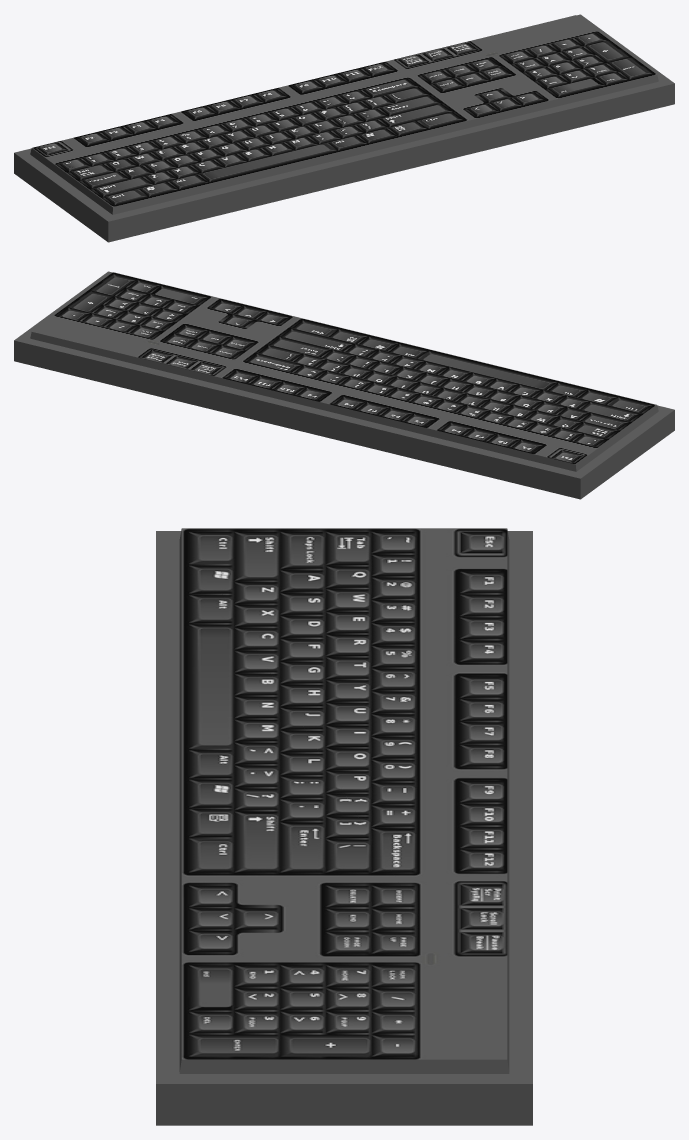
The model's file is Keyboard.FBX.
3 views of the same model, one above another, from view 1: azimuth 30°, elevation 25°; view 2: azimuth 150°, elevation 25°; view 3: azimuth 270°, elevation 25° (orthographic). The views are drawn at different scales.
Visible parts, largest first — view 1: Keyboard; view 2: Keyboard; view 3: Keyboard.
Boxes of the visible parts, box(x1,y1,x2,y2) form: Keyboard: box(14, 14, 674, 242); Keyboard: box(14, 271, 674, 499); Keyboard: box(156, 528, 532, 1125).
Bounding box in the file's own units: 12.72 × 0.5911 × 3.67.
